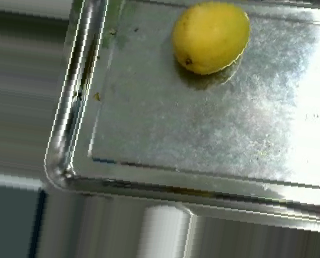Mango: (173, 1, 250, 75)
